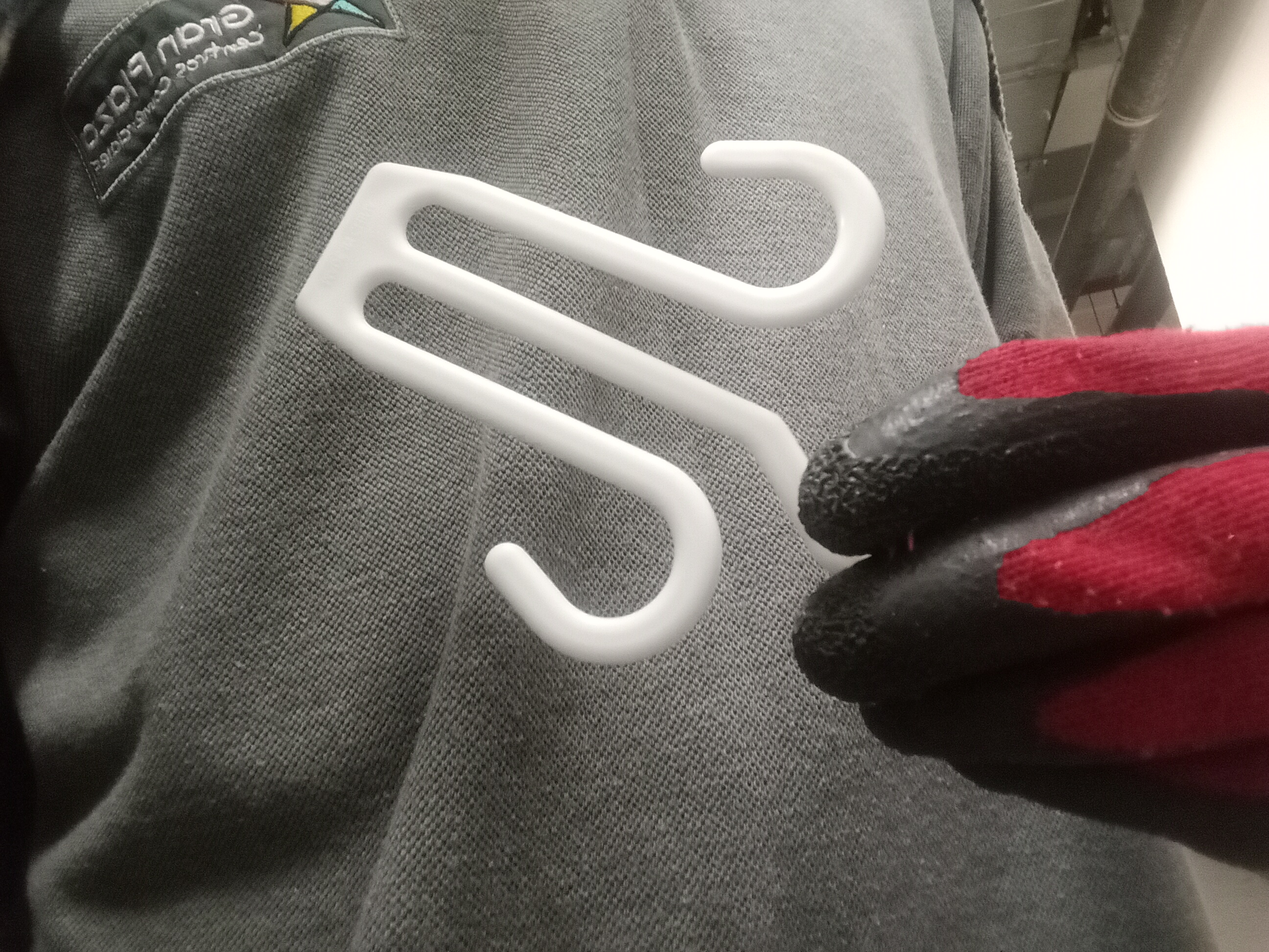Ordinario: (291, 138, 889, 668)
